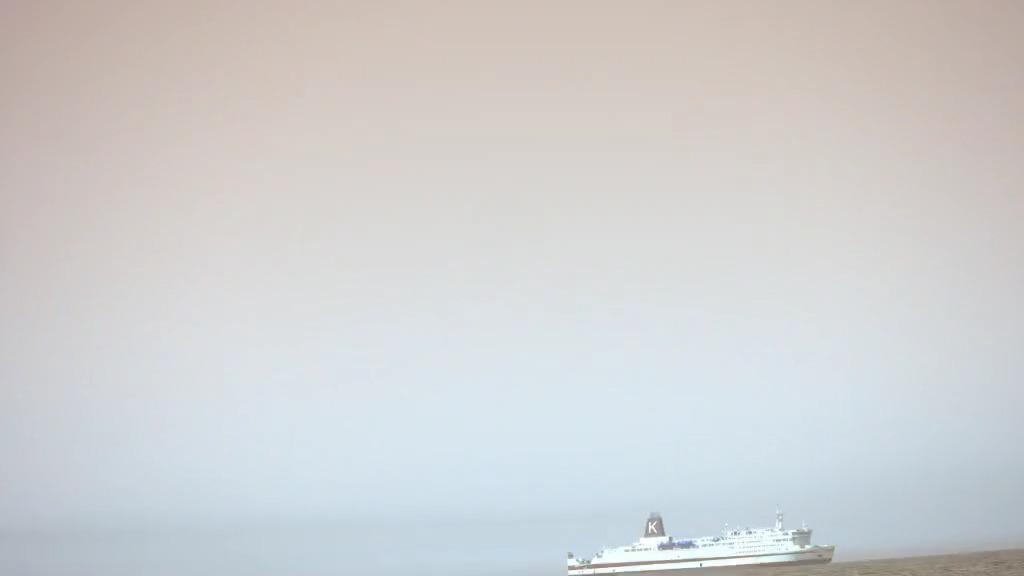PassengerShip: (559, 508, 841, 576)
